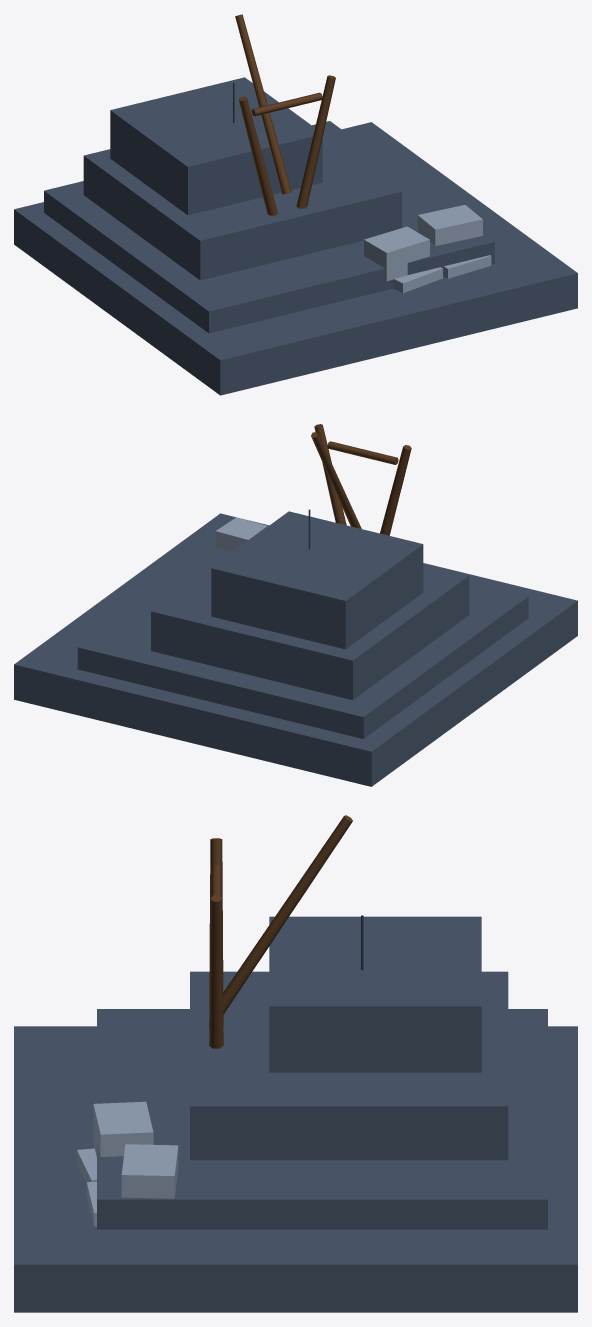
Rendered from quarry_sol_heights.glb.
The picture shows the model from 3 angles, top to bottom: view 1: azimuth 30°, elevation 25°; view 2: azimuth 150°, elevation 25°; view 3: azimuth 270°, elevation 25°; orthographic projection. The views are drawn at different scales.
Parts seen in each view (by area): view 1: Quarry_Sol_Heights; view 2: Quarry_Sol_Heights; view 3: Quarry_Sol_Heights.
Part boxes in pixels (x1=…): Quarry_Sol_Heights: x1=14, y1=14, x2=577, y2=395; Quarry_Sol_Heights: x1=14, y1=424, x2=577, y2=786; Quarry_Sol_Heights: x1=14, y1=815, x2=577, y2=1312.
Bounding box in the file's own units: 8.5 × 5.86 × 8.5.
